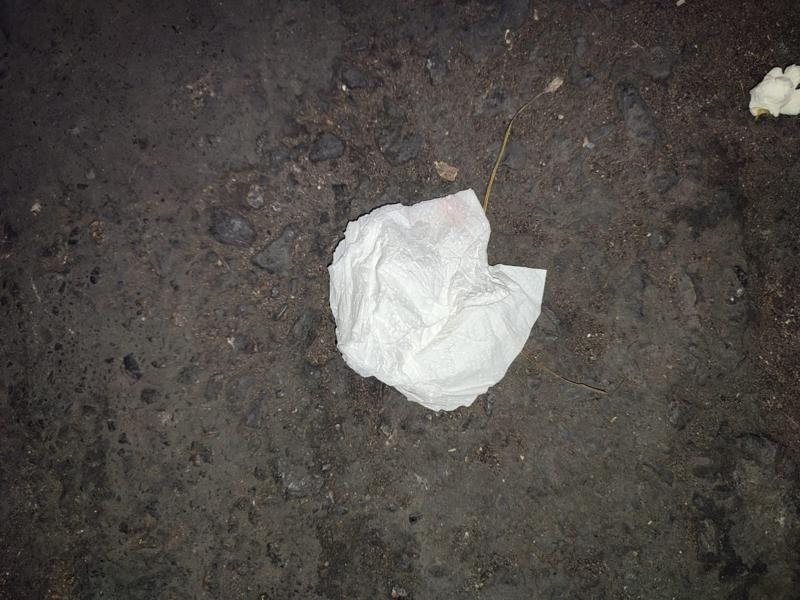papel: (326, 190, 548, 414)
